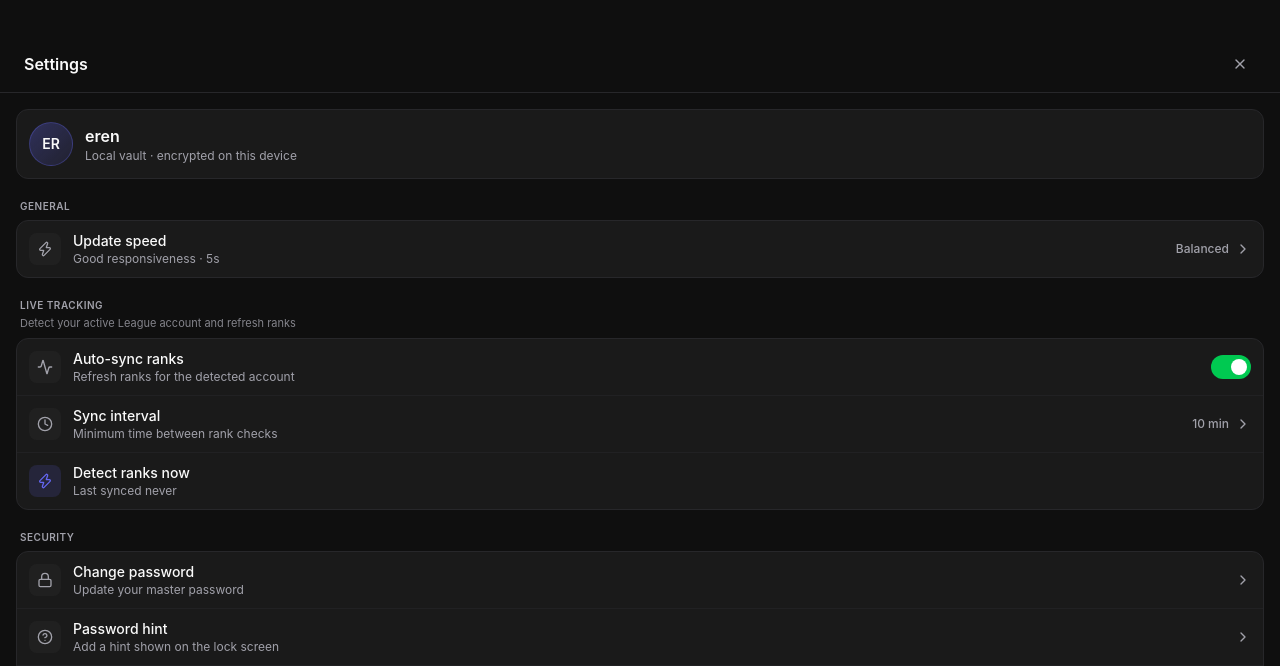
Test: SettingsModal — security drill-ins › keeps the change-password submit disabled until the form is valid
Click the button "Change password Update your master password": (45, 580) [17,552,1263,608]
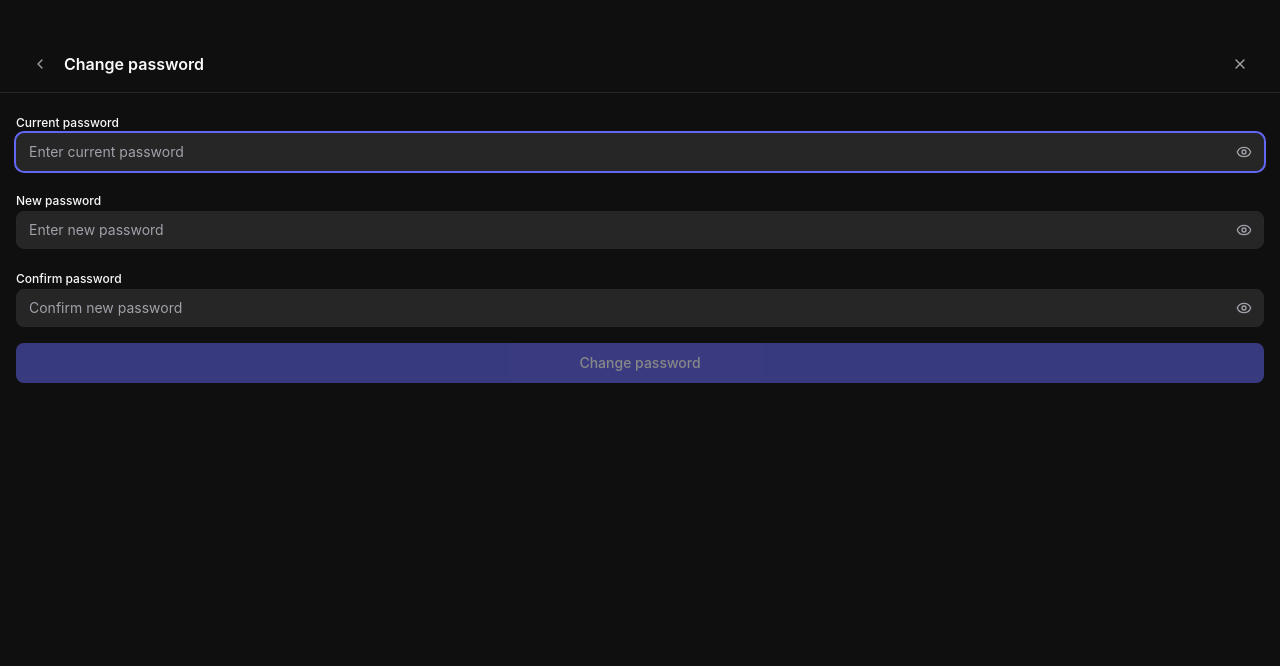
expect the button "Change password" is disabled: met, box [16,343,1264,383]
In the password field with placeholder "Enter current password": (640, 152) [16,133,1264,171], type "oldpass"
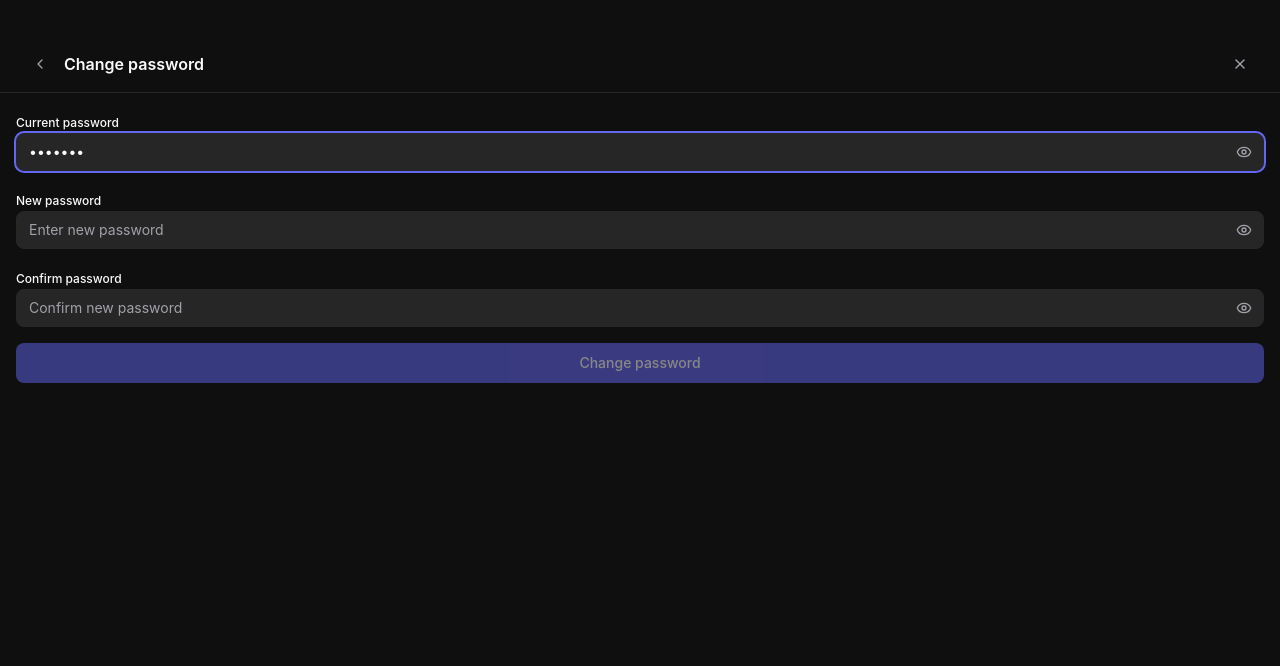
In the password field with placeholder "Enter new password": (640, 230) [16,211,1264,249], type "newpass"
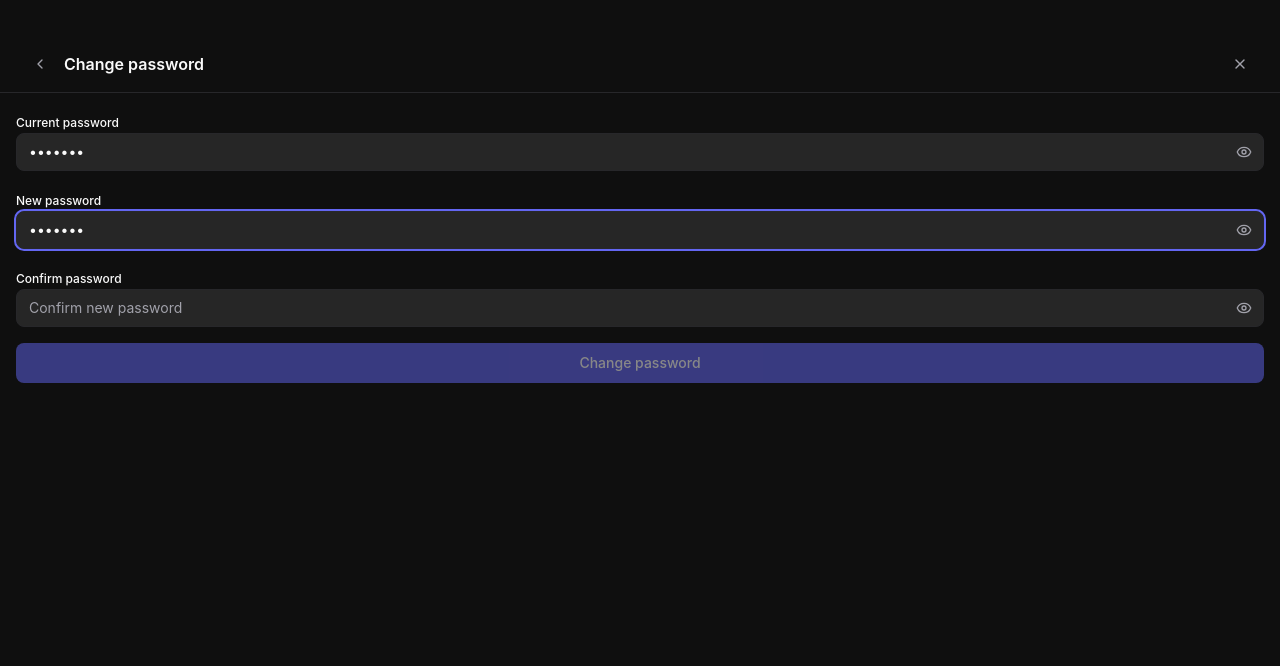
In the password field with placeholder "Confirm new password": (640, 308) [16,289,1264,327], type "newpass"
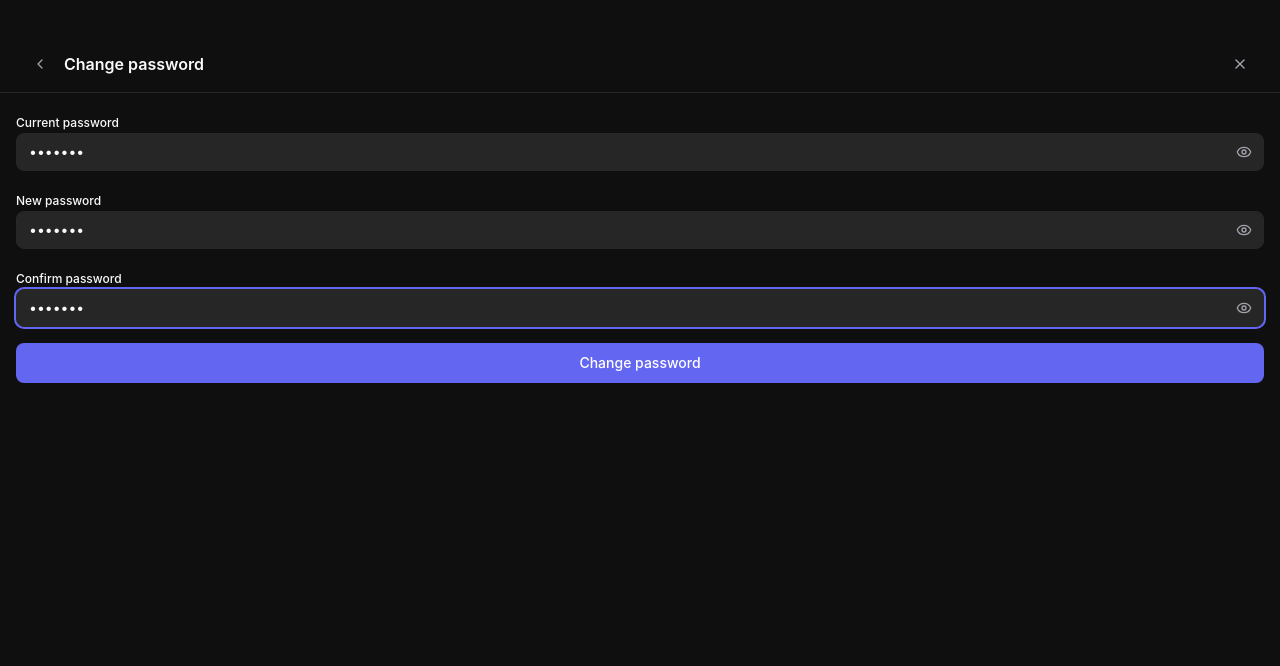
expect the button "Change password" is enabled: met, box [16,343,1264,383]
